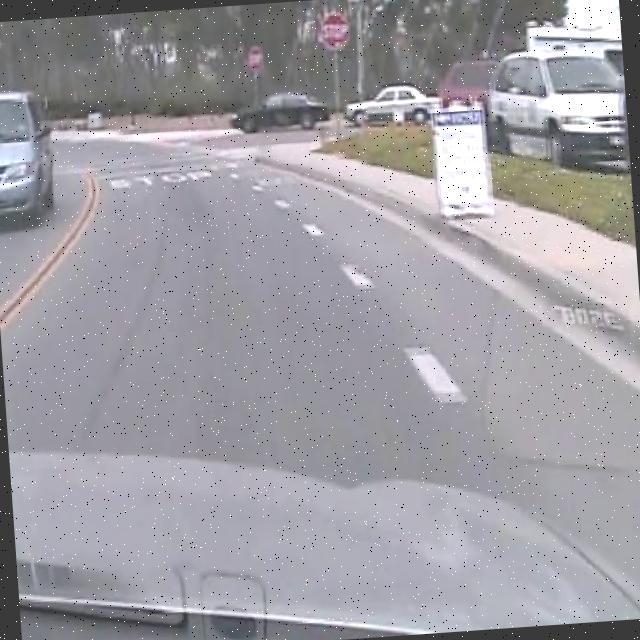Stop: (318, 8, 353, 52)
